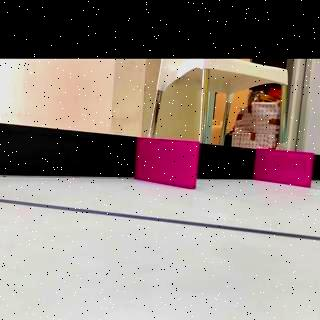xparking: (140, 141, 197, 185), (255, 152, 312, 186)
